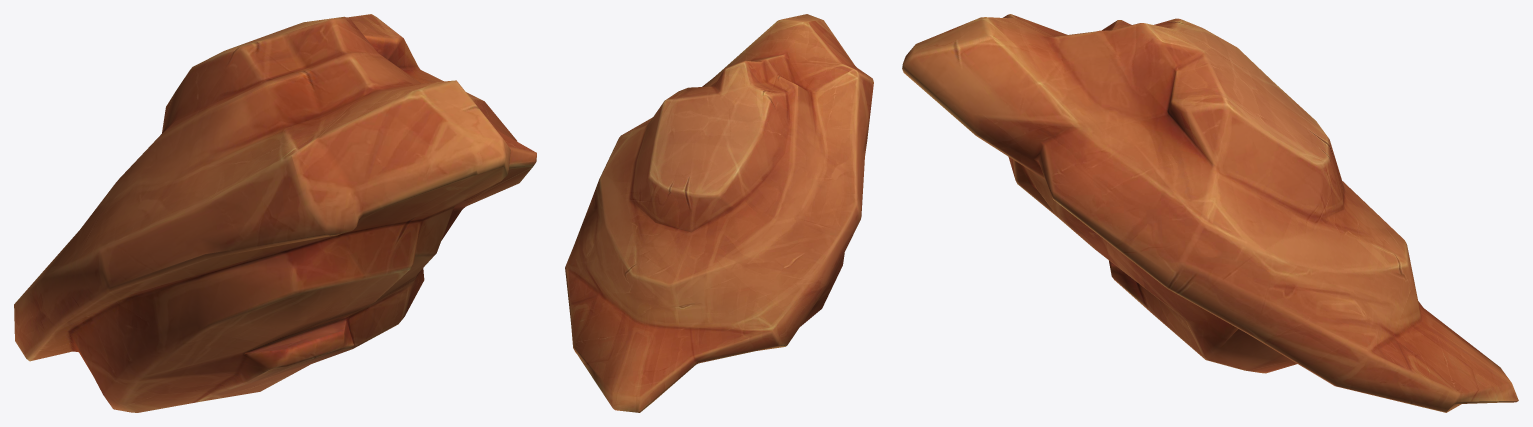
The model's file is DE_Rock_19.fbx.
3 renders of one model, left to right at view 1: azimuth 30°, elevation 25°; view 2: azimuth 150°, elevation 25°; view 3: azimuth 270°, elevation 25°, orthographic. The views are drawn at different scales.
Visible parts, largest first — view 1: DE_Rock_19; view 2: DE_Rock_19; view 3: DE_Rock_19.
Part boxes in pixels (left/top/right/bottom): DE_Rock_19: left=14, top=14, right=536, bottom=412; DE_Rock_19: left=565, top=14, right=873, bottom=412; DE_Rock_19: left=902, top=14, right=1518, bottom=412.
Size of the model in its own units: 10.94 by 11.31 by 16.65.
